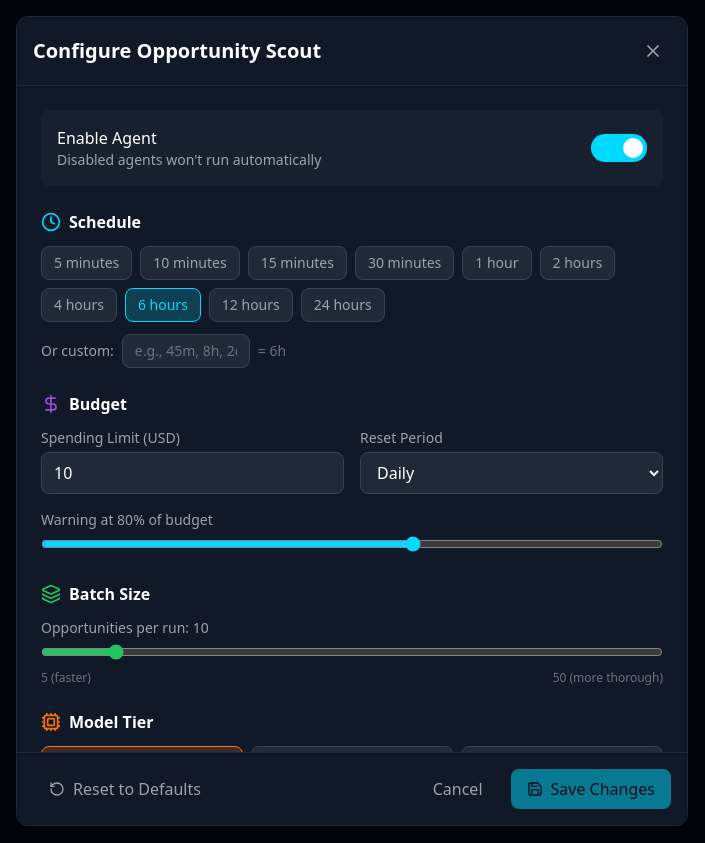
Test: AgentConfigModal › Schedule Presets › custom schedule input works
In the field with placeholder "e.g., 45m, 8h, 2d": (186, 351) [122,334,250,368], type "45m"
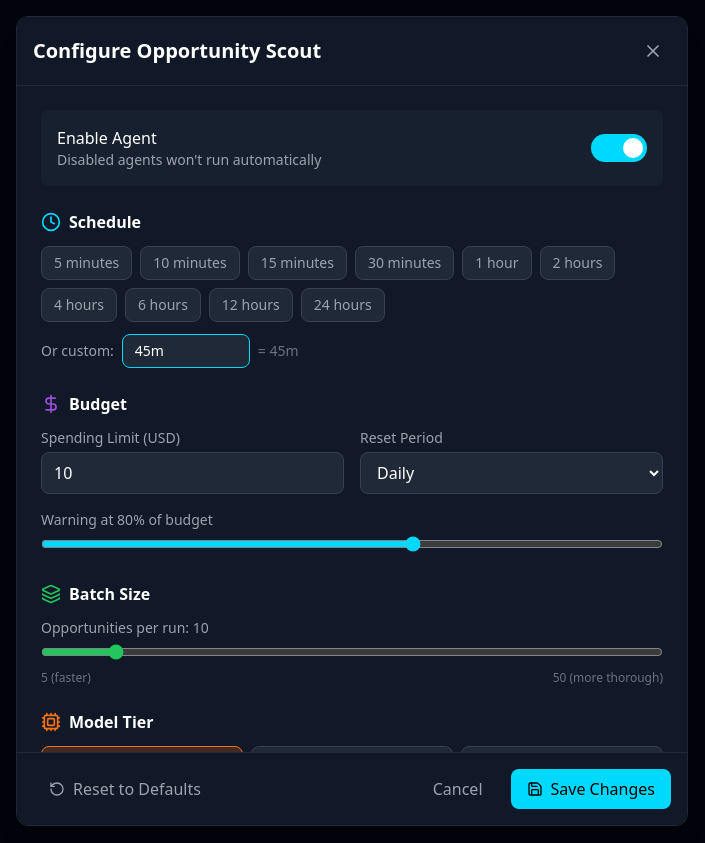
Expected: the button "Save Changes" is enabled, [510,769,671,809]
